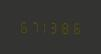eight: (62, 20, 72, 34)
one: (40, 19, 50, 33)
seven: (28, 19, 38, 33)
six: (17, 19, 27, 33), (73, 20, 83, 34)
three: (51, 20, 61, 34)
